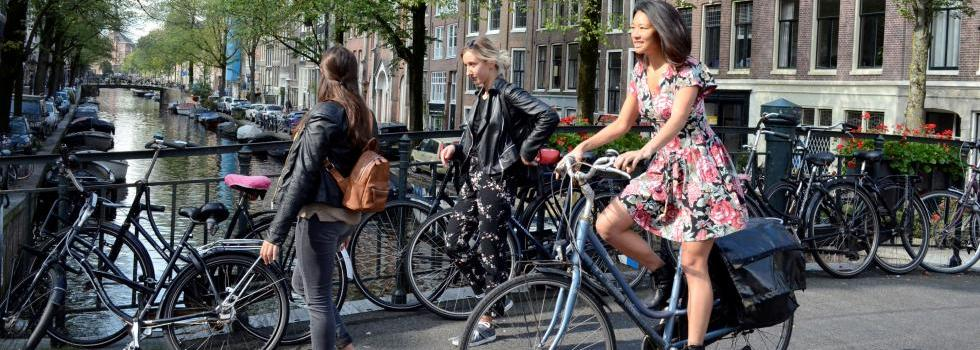commuter: (453, 3, 798, 350)
